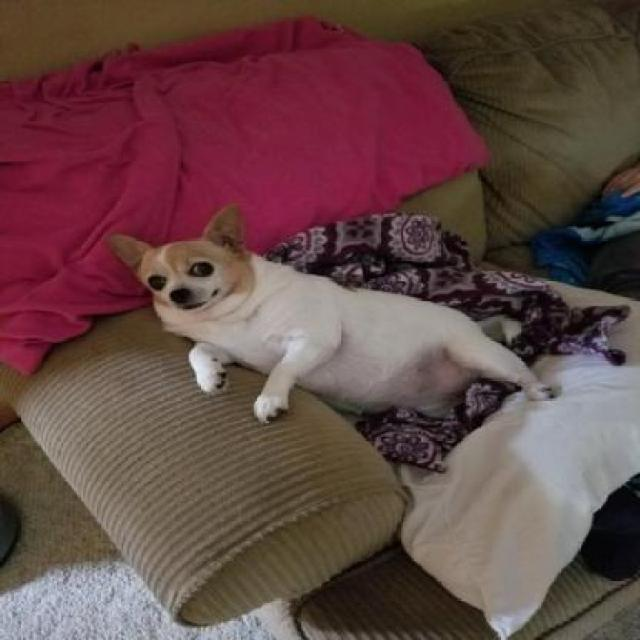Dog: (91, 210, 569, 436)
